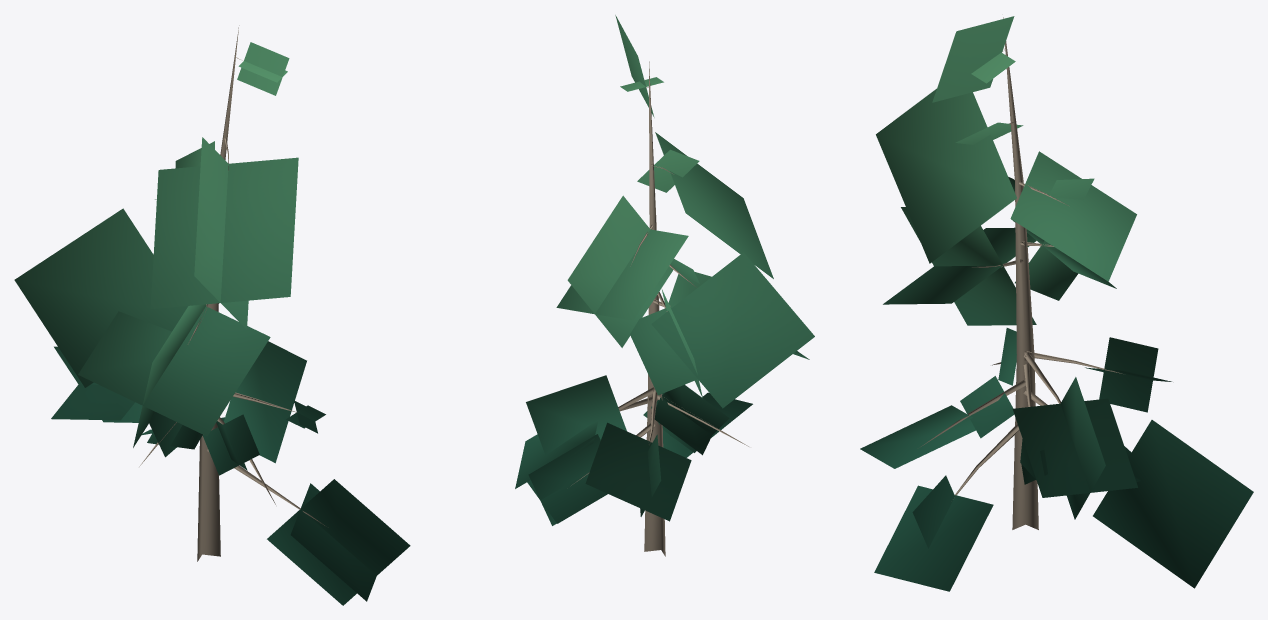
The model's file is pine-c-liviano.glb.
3 renders of one model, left to right at view 1: azimuth 30°, elevation 25°; view 2: azimuth 150°, elevation 25°; view 3: azimuth 270°, elevation 25°, orthographic. The views are drawn at different scales.
Parts seen in each view (by area): view 1: pine-c-liviano; view 2: pine-c-liviano; view 3: pine-c-liviano.
Boxes of the visible parts, x1,y1,x2,y2 form: pine-c-liviano: [14, 25, 410, 605]; pine-c-liviano: [515, 15, 814, 556]; pine-c-liviano: [860, 16, 1253, 591].
Size of the model in its own units: 5.14 by 9.03 by 5.78.
